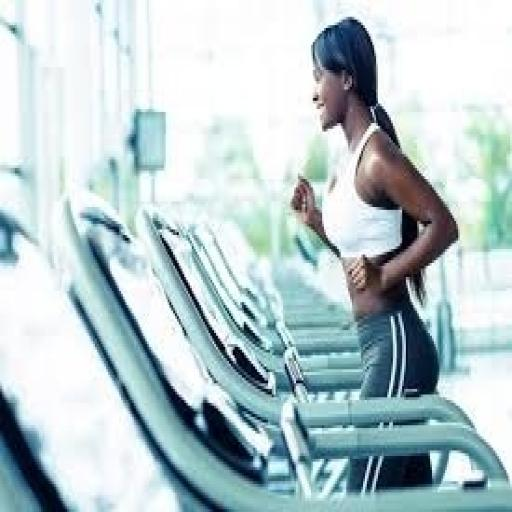running: (288, 14, 462, 495)
